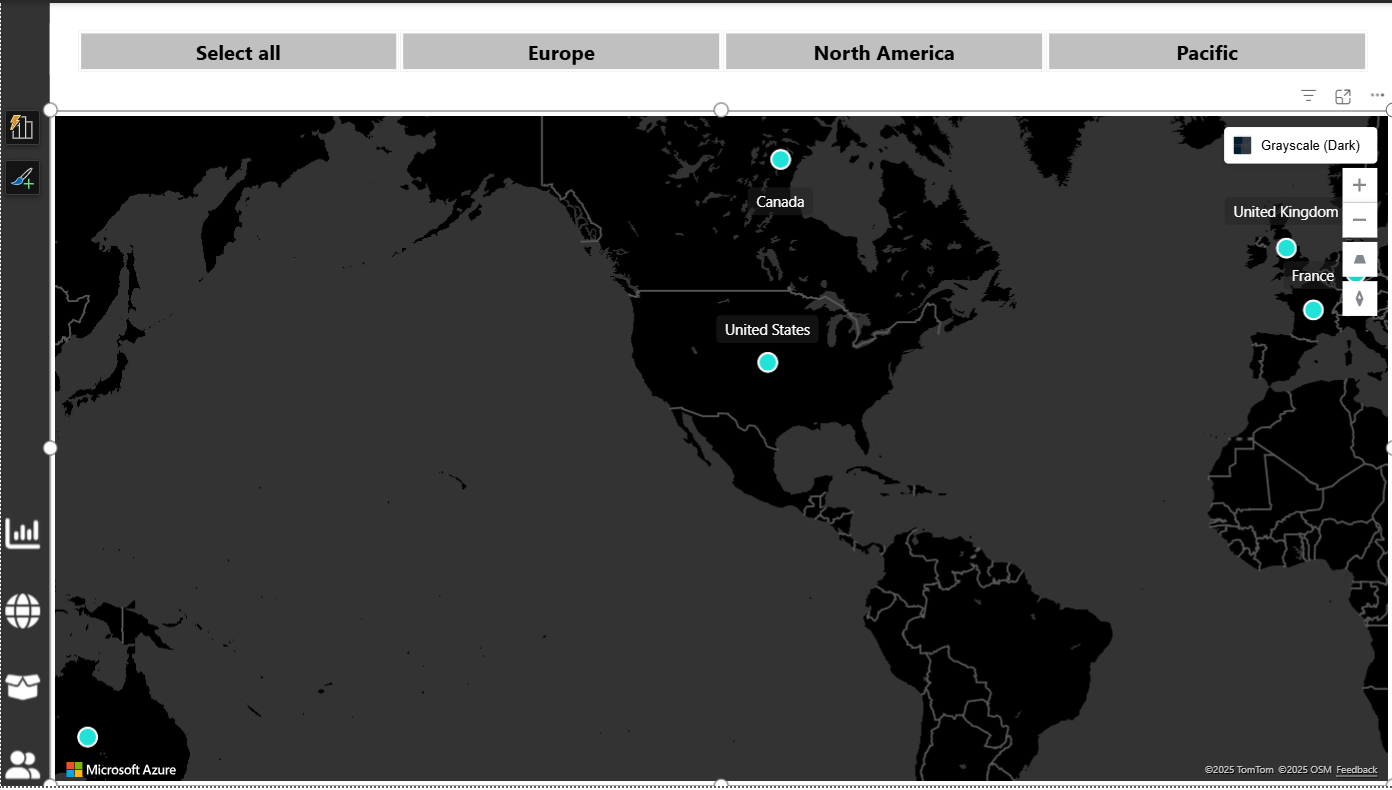

Layout of this report page (visuals, bound fields, positions):
{"tool":"powerbi","page":{"name":"Map","canvas":[1280,720],"ordinal":1},"visuals":[{"type":"shape","title":"Left Nav Background","box":[0,0,45,720.2],"z":0},{"type":"actionButton","box":[0,467.5,45,40],"z":0,"group":"g1"},{"type":"azureMap","fields":{"Category":["Territory Lookup.Country"]},"box":[45,77.5,1235,642.5],"z":1000},{"type":"actionButton","box":[0,609.2,45,40],"z":1000,"group":"g1"},{"type":"slicer","fields":{"Values":["Territory Lookup.Continent"]},"box":[45,18.8,1235,47.5],"z":2000},{"type":"actionButton","box":[0,680,45,40],"z":2000,"group":"g1"},{"type":"actionButton","box":[0,538.3,45,40],"z":3000,"group":"g1"},{"type":"group","id":"g1","title":"Navigation Buttons","box":[0,467.5,45,252.5],"z":3000}]}

Visuals, with their boxes on the page's 1280x720 design canvas (x1, y1, x2, y2). These are canvas units, not pixel positions in the 1392x790 screenshot, which may show the page scaled, cropped or inside an application window:
"Left Nav Background" shape: region(0, 0, 45, 720)
actionButton: region(0, 468, 45, 508)
azureMap - Territory Lookup.Country: region(45, 78, 1280, 720)
actionButton: region(0, 609, 45, 649)
slicer - Territory Lookup.Continent: region(45, 19, 1280, 66)
actionButton: region(0, 680, 45, 720)
actionButton: region(0, 538, 45, 578)
"Navigation Buttons" group: region(0, 468, 45, 720)
